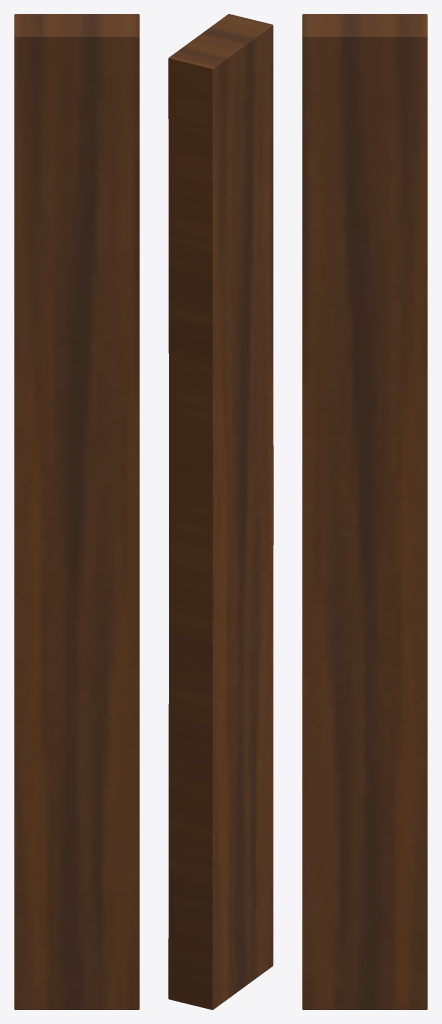
File: CM_FacadeBay01_Post_3p60m.fbx
The picture shows the model from 3 angles, left to right: view 1: azimuth 90°, elevation 25°; view 2: azimuth 150°, elevation 25°; view 3: azimuth 270°, elevation 25°; orthographic projection. The views are drawn at different scales.
Visible parts, largest first — view 1: CM_FacadeBay01_Post_3p60m_Timber; view 2: CM_FacadeBay01_Post_3p60m_Timber; view 3: CM_FacadeBay01_Post_3p60m_Timber.
Part boxes in pixels (left/top/right/bottom): CM_FacadeBay01_Post_3p60m_Timber: left=14, top=14, right=139, bottom=1009; CM_FacadeBay01_Post_3p60m_Timber: left=168, top=14, right=273, bottom=1009; CM_FacadeBay01_Post_3p60m_Timber: left=302, top=14, right=427, bottom=1009.
Bounding box in the file's own units: 0.1815 × 3.6 × 0.42.
